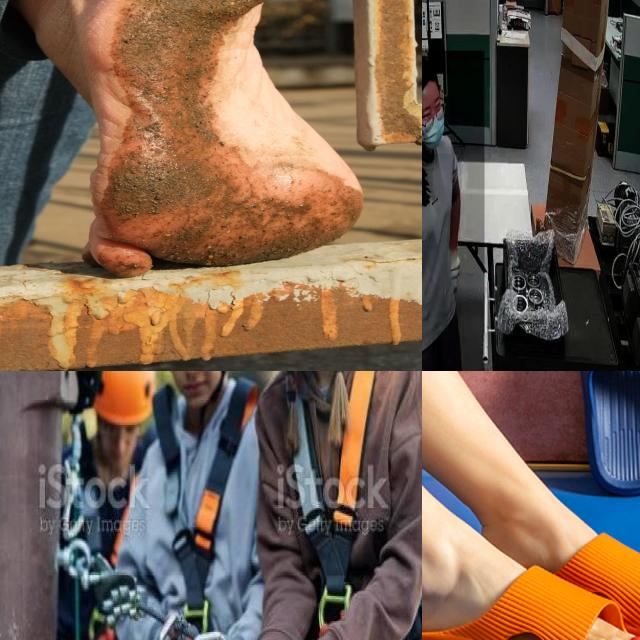Barefoots: (78, 0, 364, 277)
Harness: (152, 378, 258, 610), (294, 371, 376, 640)
Sandals: (422, 492, 640, 640)
face_mask: (422, 74, 451, 153)
glasses: (422, 101, 445, 131)
head_nohelmet: (422, 55, 438, 82)
person: (422, 50, 484, 371)
